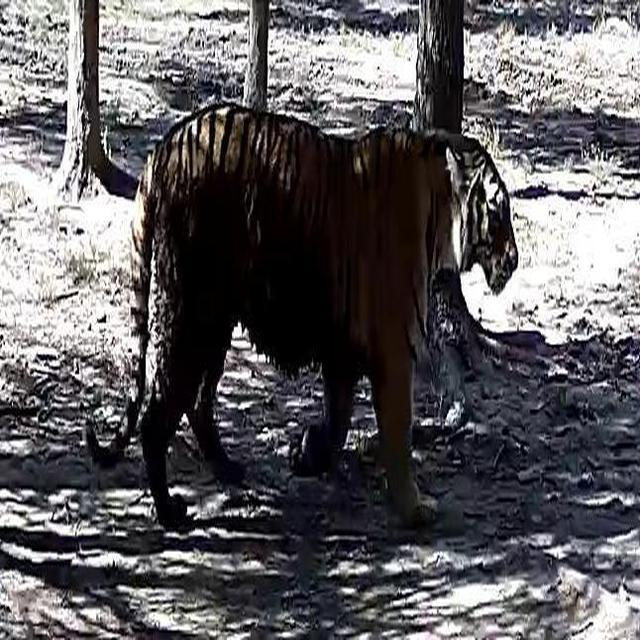tiger: (73, 92, 525, 536)
